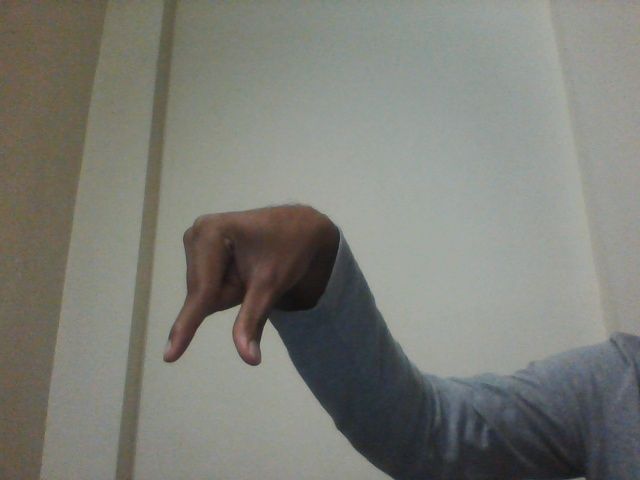q: (152, 193, 314, 371)
